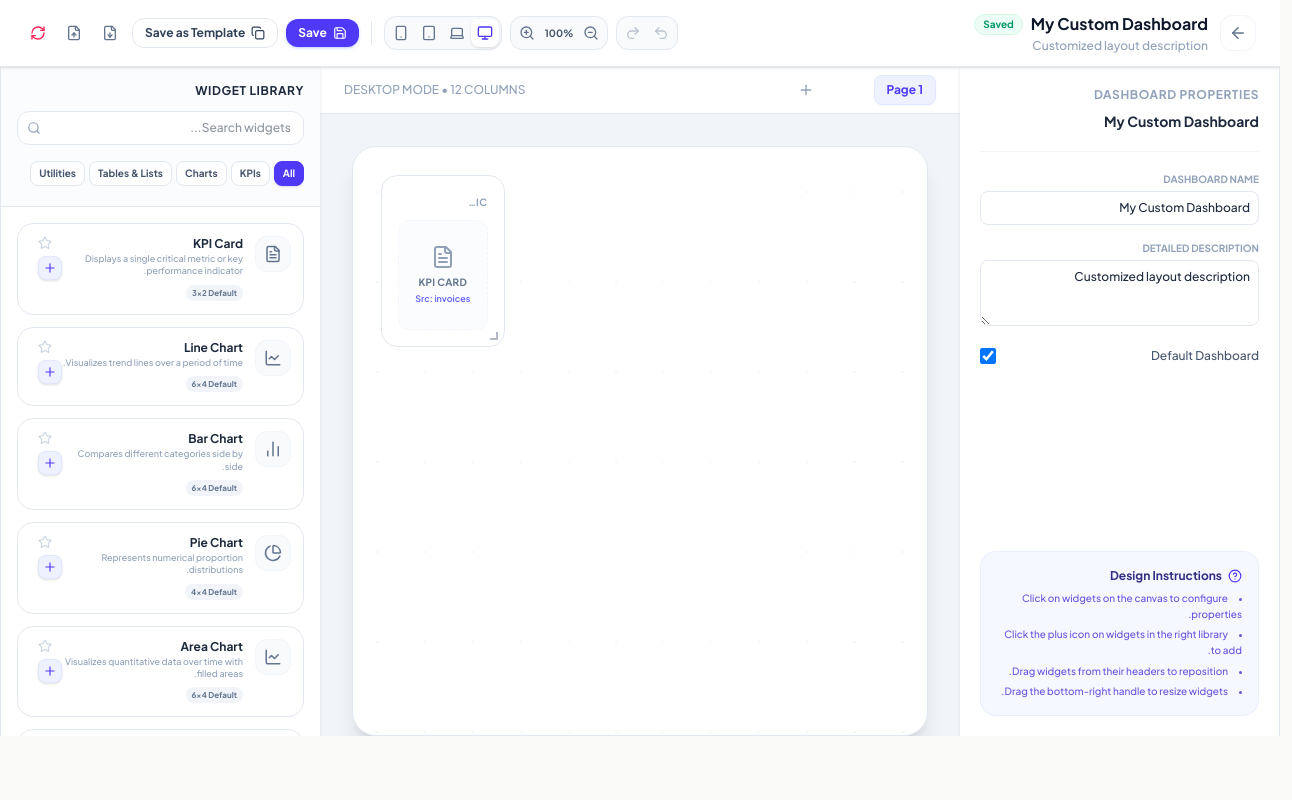
it: DashboardBuilder Page - Drag & Drop Visual Designer › allows adding a widget from the Catalog Library to the Canvas grid
Click the button titled "Add to Grid" below "Line Chart" at (50,372), box [38, 360, 62, 384]
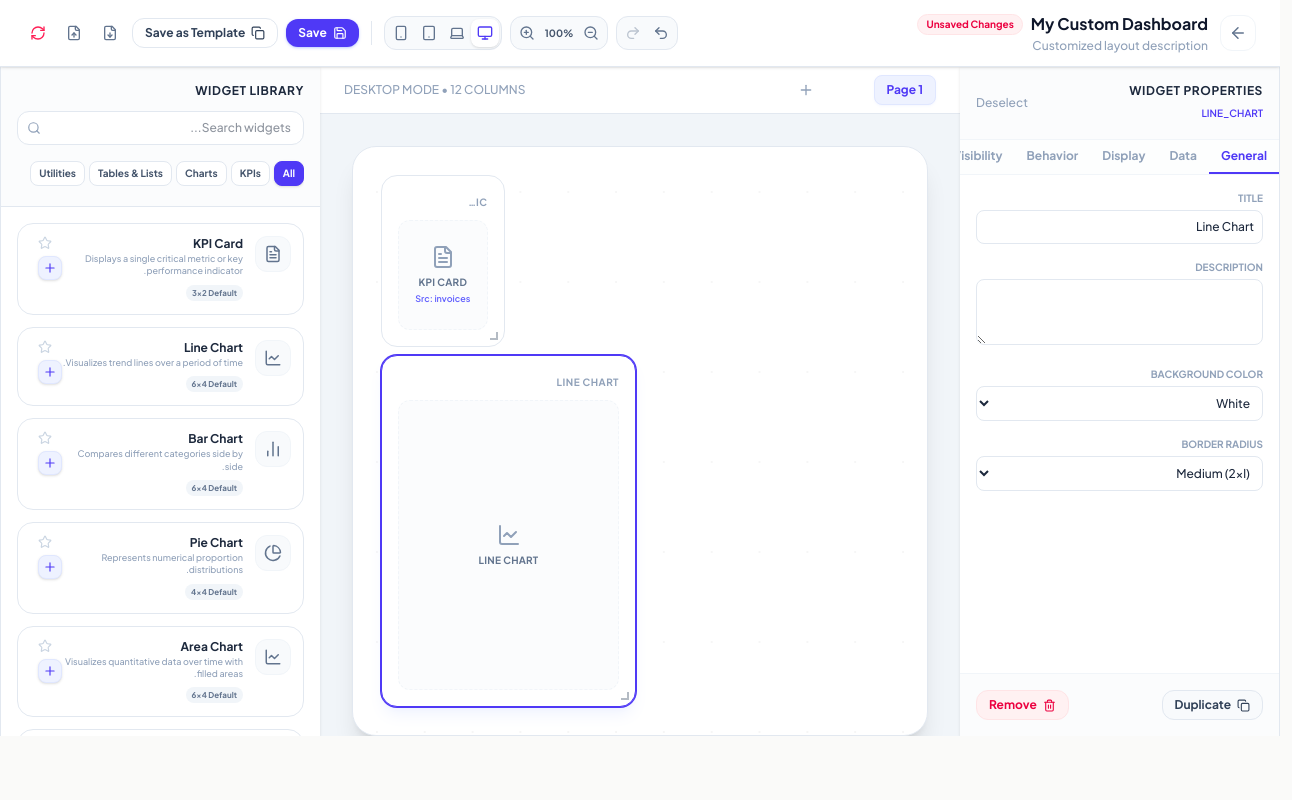
expect the text "Line Chart" is shown 3 times: met, box [557, 374, 619, 390]; [479, 552, 538, 568]; [184, 340, 243, 355]
